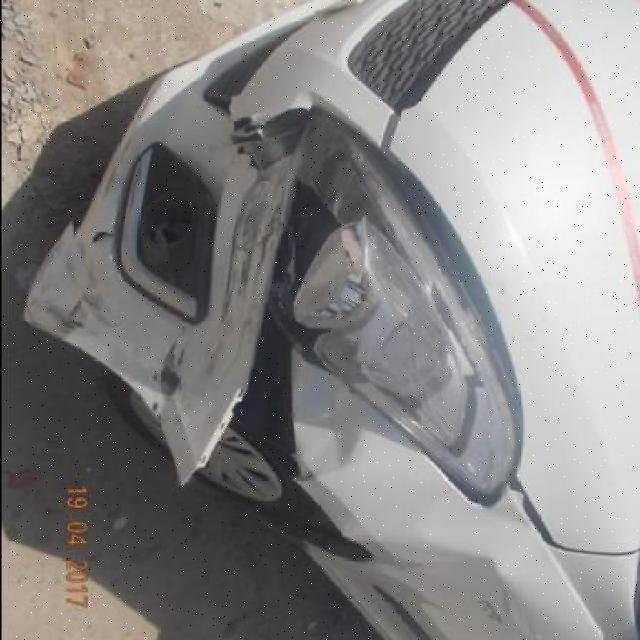damage: (180, 175, 294, 488), (196, 165, 295, 407), (285, 175, 380, 387), (147, 339, 189, 405)
